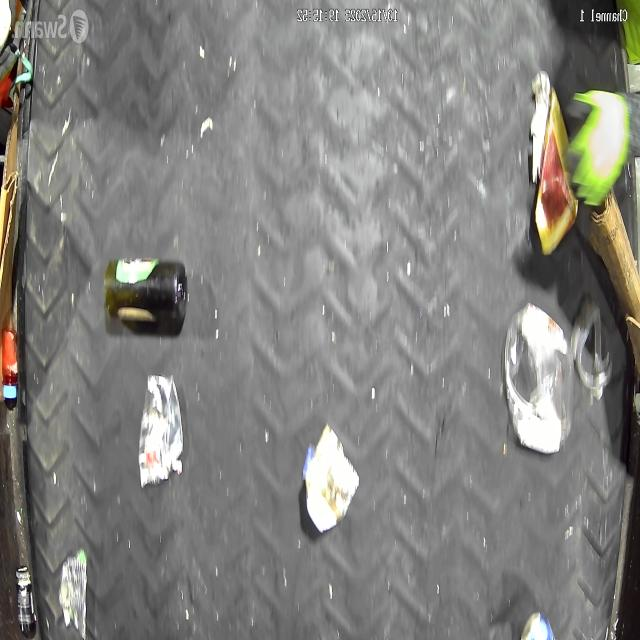can: (61, 548, 88, 640), (519, 612, 555, 640)
